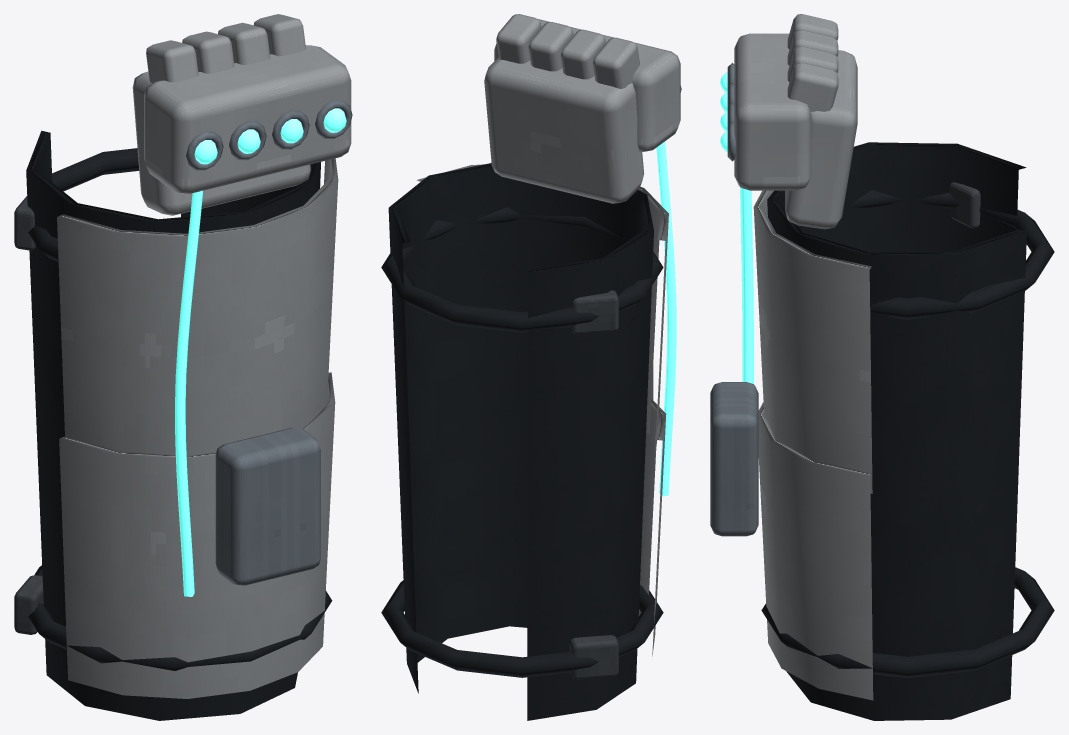
The model's file is energy-gauntlet.lod2.glb.
The picture shows the model from 3 angles, left to right: view 1: azimuth 30°, elevation 25°; view 2: azimuth 150°, elevation 25°; view 3: azimuth 270°, elevation 25°; orthographic projection. The views are drawn at different scales.
Visible parts, largest first — view 1: ceramic / ceramic composite panel, polymer / stippled polymer, alloy / machined anodized alloy, energy / emissive field channel, darksteel / oil-blackened fittings; view 2: polymer / stippled polymer, ceramic / ceramic composite panel, darksteel / oil-blackened fittings, energy / emissive field channel; view 3: polymer / stippled polymer, ceramic / ceramic composite panel, alloy / machined anodized alloy, energy / emissive field channel, darksteel / oil-blackened fittings.
Boxes of the visible parts, x1,y1,x2,y2 form: ceramic / ceramic composite panel: (57, 14, 351, 698); polymer / stippled polymer: (26, 130, 332, 720); alloy / machined anodized alloy: (186, 100, 352, 585); energy / emissive field channel: (175, 108, 346, 596); darksteel / oil-blackened fittings: (14, 196, 43, 634); polymer / stippled polymer: (381, 163, 663, 720); ceramic / ceramic composite panel: (416, 14, 680, 656); darksteel / oil-blackened fittings: (569, 290, 618, 679); energy / emissive field channel: (656, 141, 676, 496); polymer / stippled polymer: (761, 142, 1054, 720); ceramic / ceramic composite panel: (734, 14, 873, 700); alloy / machined anodized alloy: (710, 63, 758, 536); energy / emissive field channel: (720, 71, 753, 383); darksteel / oil-blackened fittings: (949, 182, 980, 228).
Size of the model in its own units: 0.155 by 0.3596 by 0.1785.
Materials: 5 (4 with a texture image).
